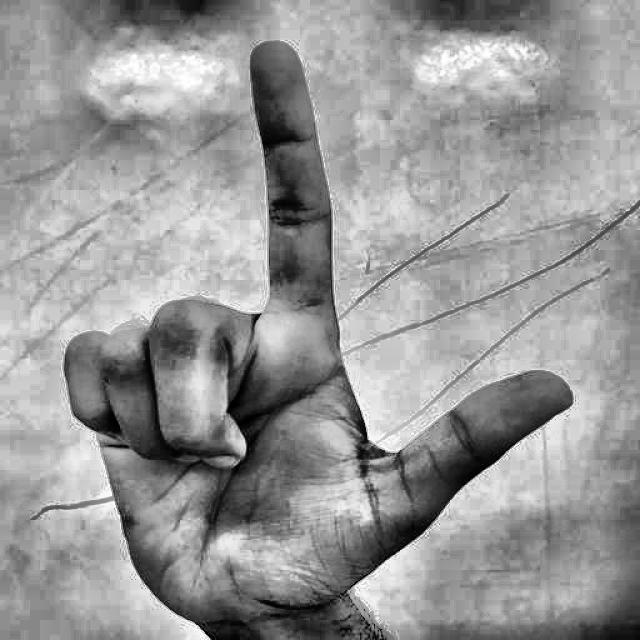La: (39, 13, 583, 638)
